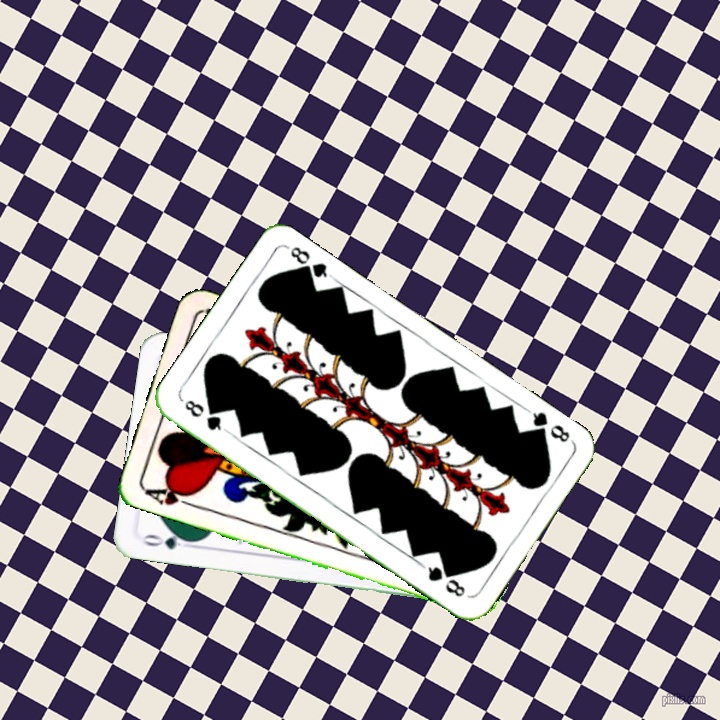G8: (523, 405, 575, 445), (180, 395, 230, 435)
GO: (139, 528, 197, 552)
HA: (141, 480, 200, 511)
